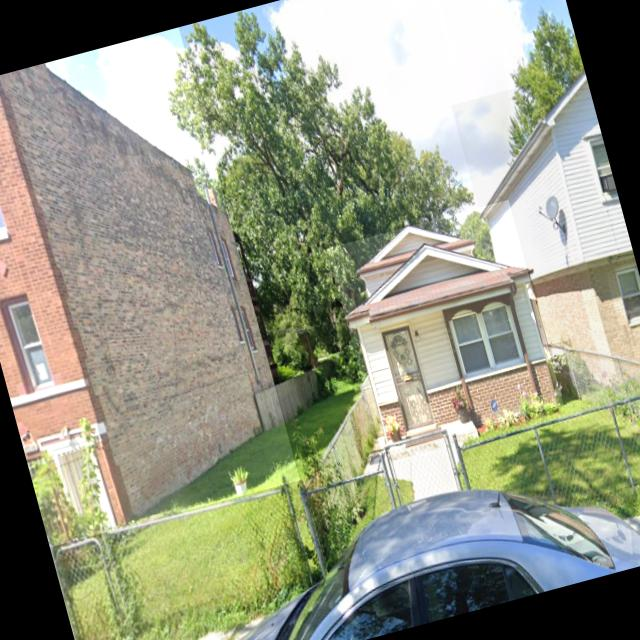House: (0, 26, 300, 546), (451, 69, 640, 410), (327, 200, 563, 452)
